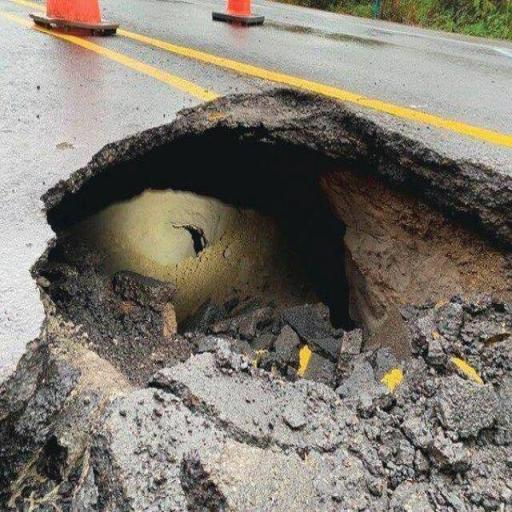Concentric_Crack: (0, 88, 512, 510)
